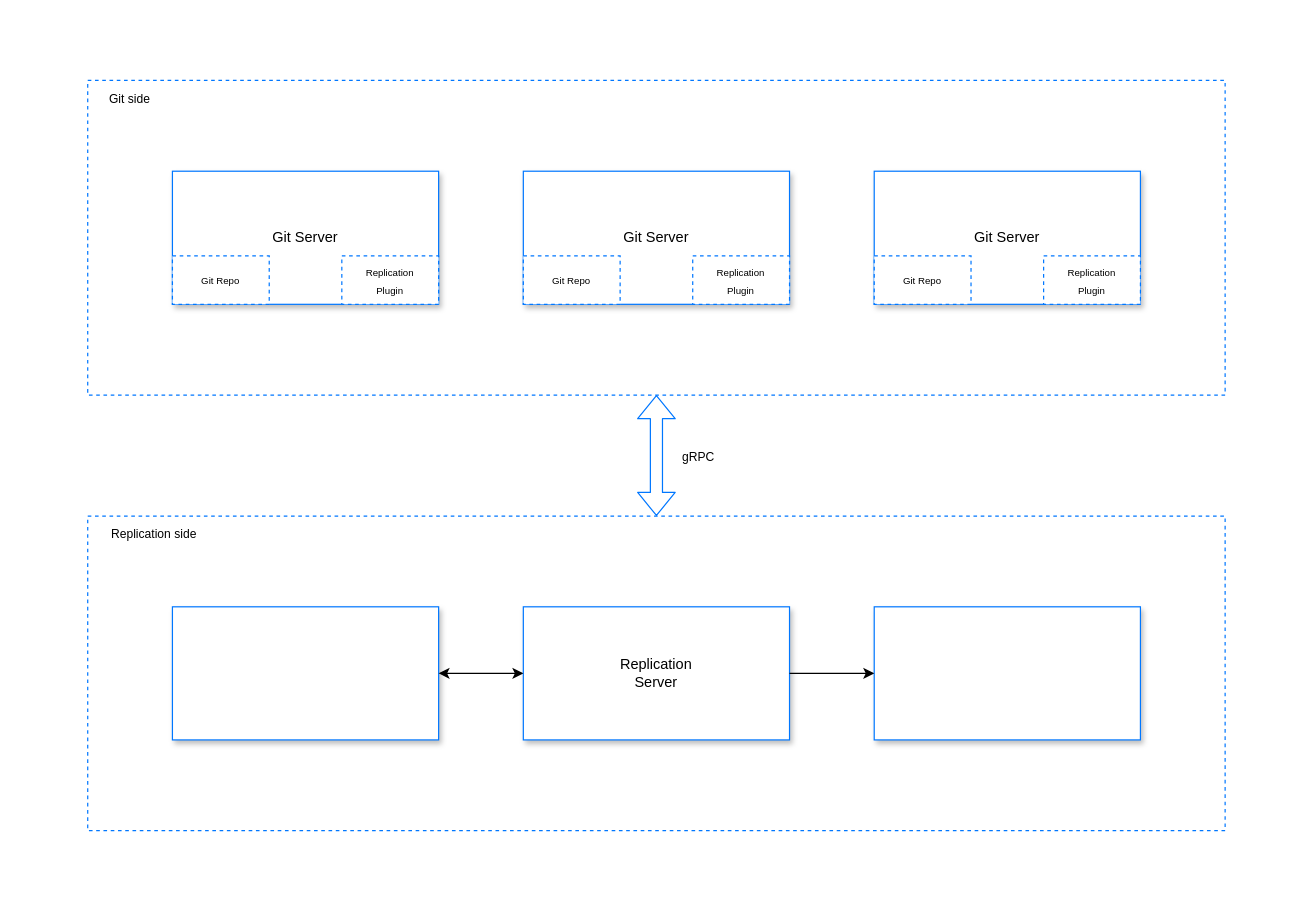
The diagram is 1312 pixels wide and 912 high, and some of its shapes have lost their labels. Here are the shapes that lost their labels. From the top down, the centre of each, then its label:
(306,674): Replication Consul
(1008,674): Replication Grafana
